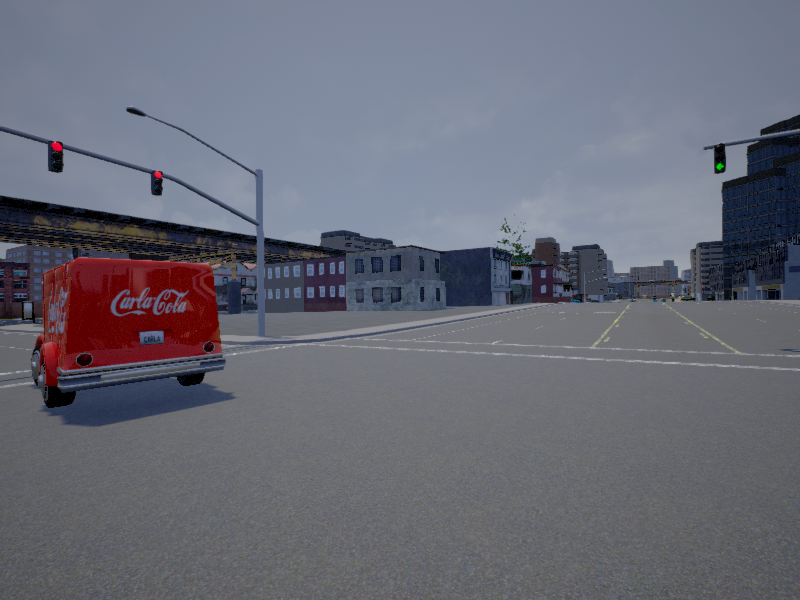Benign: (29, 260, 222, 411)
